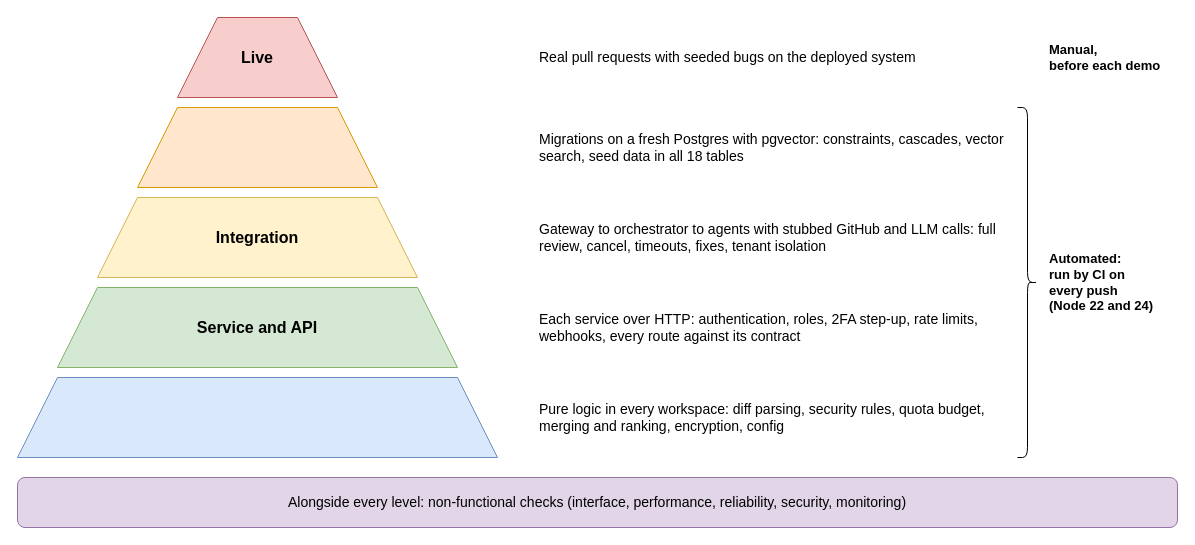
Image size: 1195x545. Some labels were removed from this diagram. The shapes that lost their labels are listed below. From the top down, each one's box as (x1, y1, x2, y2) in pixels, then its label:
(136, 106, 378, 188): Database
(16, 376, 498, 458): Unit
